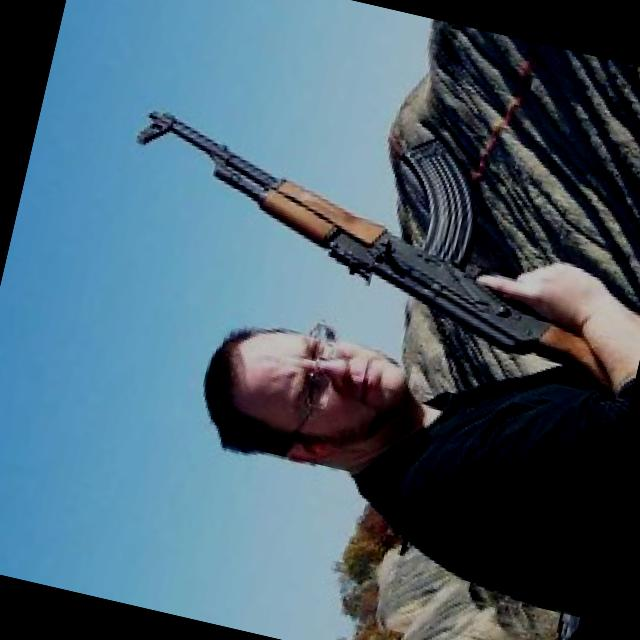long weapon: (100, 80, 599, 368)
